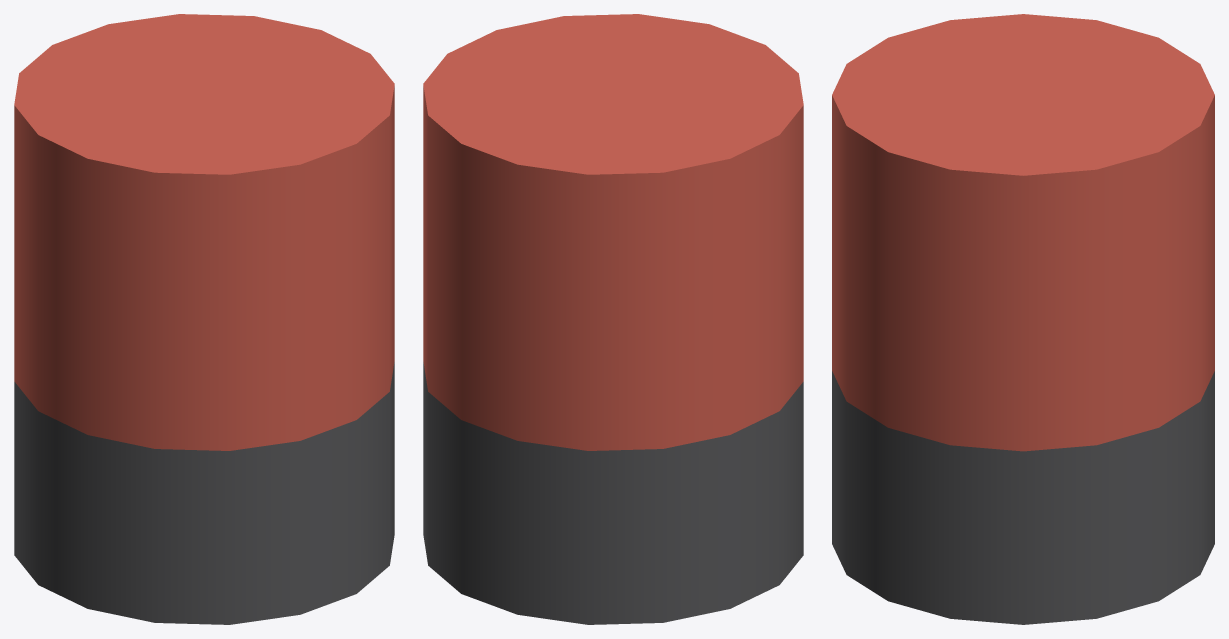
The model's file is buoy-can-red.glb.
3 views of the same model, side by side, from view 1: azimuth 30°, elevation 25°; view 2: azimuth 150°, elevation 25°; view 3: azimuth 270°, elevation 25° (orthographic).
Visible parts, largest first — view 1: buoy-can-red; view 2: buoy-can-red; view 3: buoy-can-red.
Part boxes in pixels (x1,y1,x2,y2): buoy-can-red: (14,14,394,624); buoy-can-red: (423,14,803,624); buoy-can-red: (832,14,1214,624).
Bounding box in the file's own units: 1.7 × 2.2 × 1.7.
